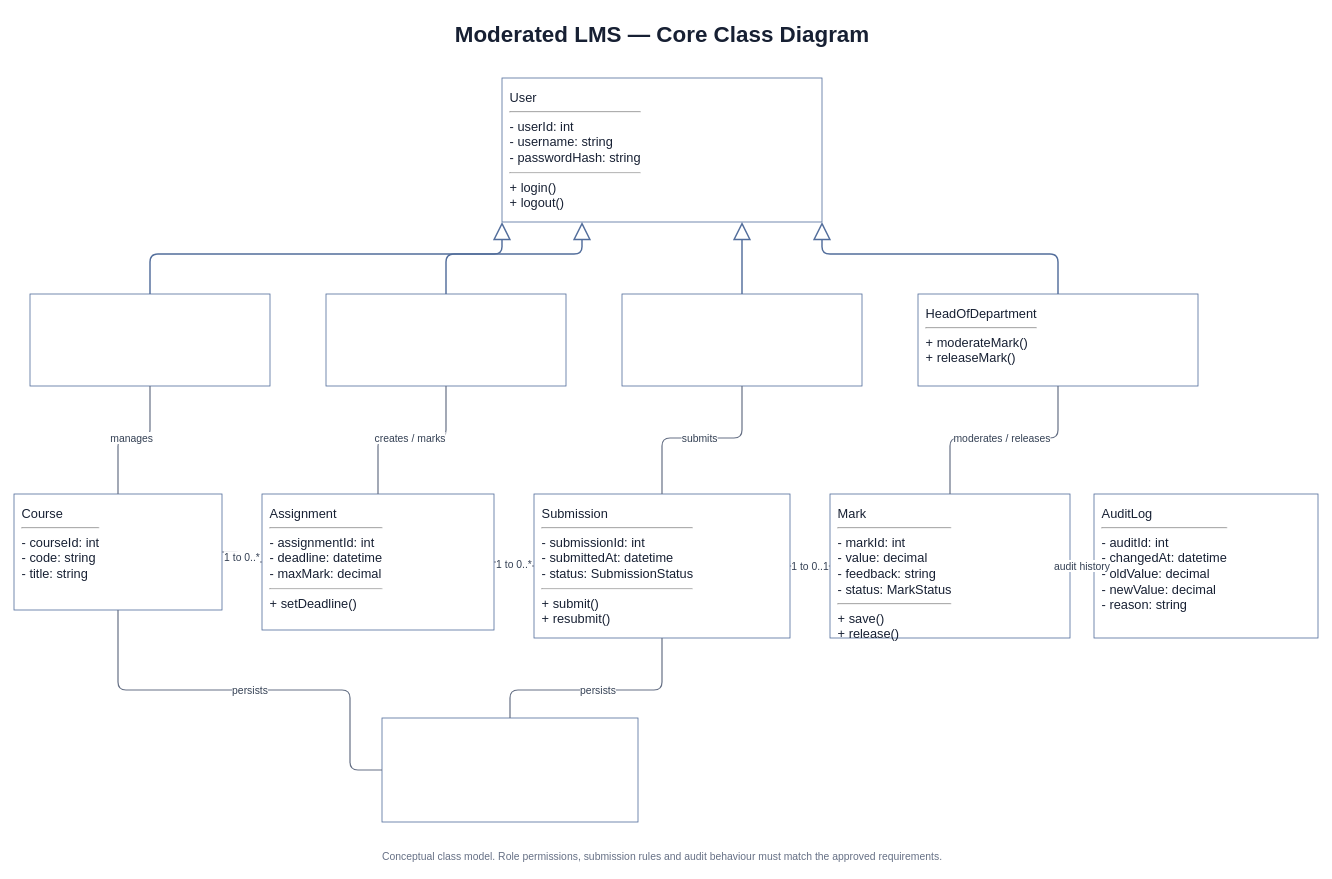
Some shapes in this 1332 by 879 pixel diagram are drawn without their labels. The shapes that lost their labels are listed below. From the top down, each one's box as (x1, y1, x2, y2) in pixels, then its label:
(29, 293, 270, 386): Administrator + manageUsers() + manageCourses()
(325, 293, 566, 386): Lecturer + createAssignment() + markSubmission()
(621, 293, 862, 386): Student + viewCourses() + submitWork()
(381, 717, 638, 822): IRepository<T> + add() + getById() + update()
